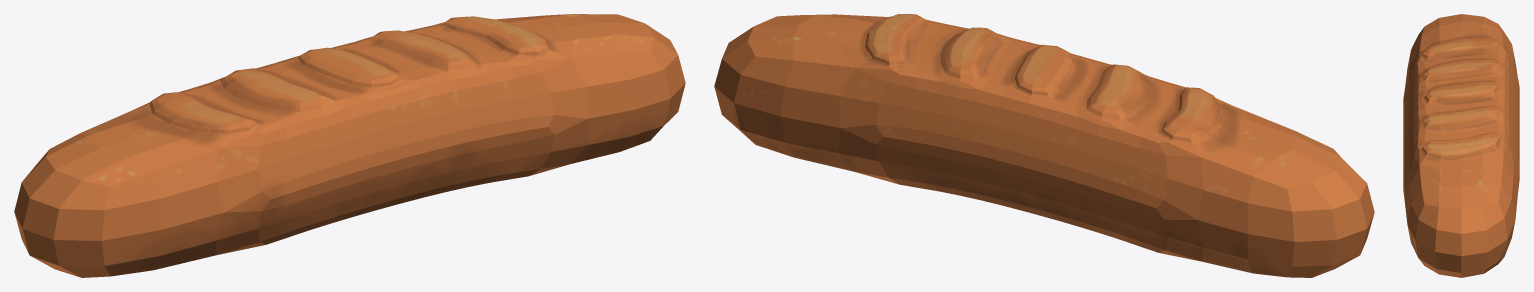
File: bread_baguette.glb
The picture shows the model from 3 angles, left to right: view 1: azimuth 30°, elevation 25°; view 2: azimuth 150°, elevation 25°; view 3: azimuth 270°, elevation 25°; orthographic projection. The views are drawn at different scales.
Visible parts, largest first — view 1: bread_baguette_bent; view 2: bread_baguette_bent; view 3: bread_baguette_bent.
Part boxes in pixels (x1=…): bread_baguette_bent: x1=14, y1=14, x2=685, y2=277; bread_baguette_bent: x1=714, y1=14, x2=1374, y2=277; bread_baguette_bent: x1=1403, y1=14, x2=1519, y2=277.
Size of the model in its own units: 11.48 by 2.37 by 2.58.
1 material, 1 textured.
